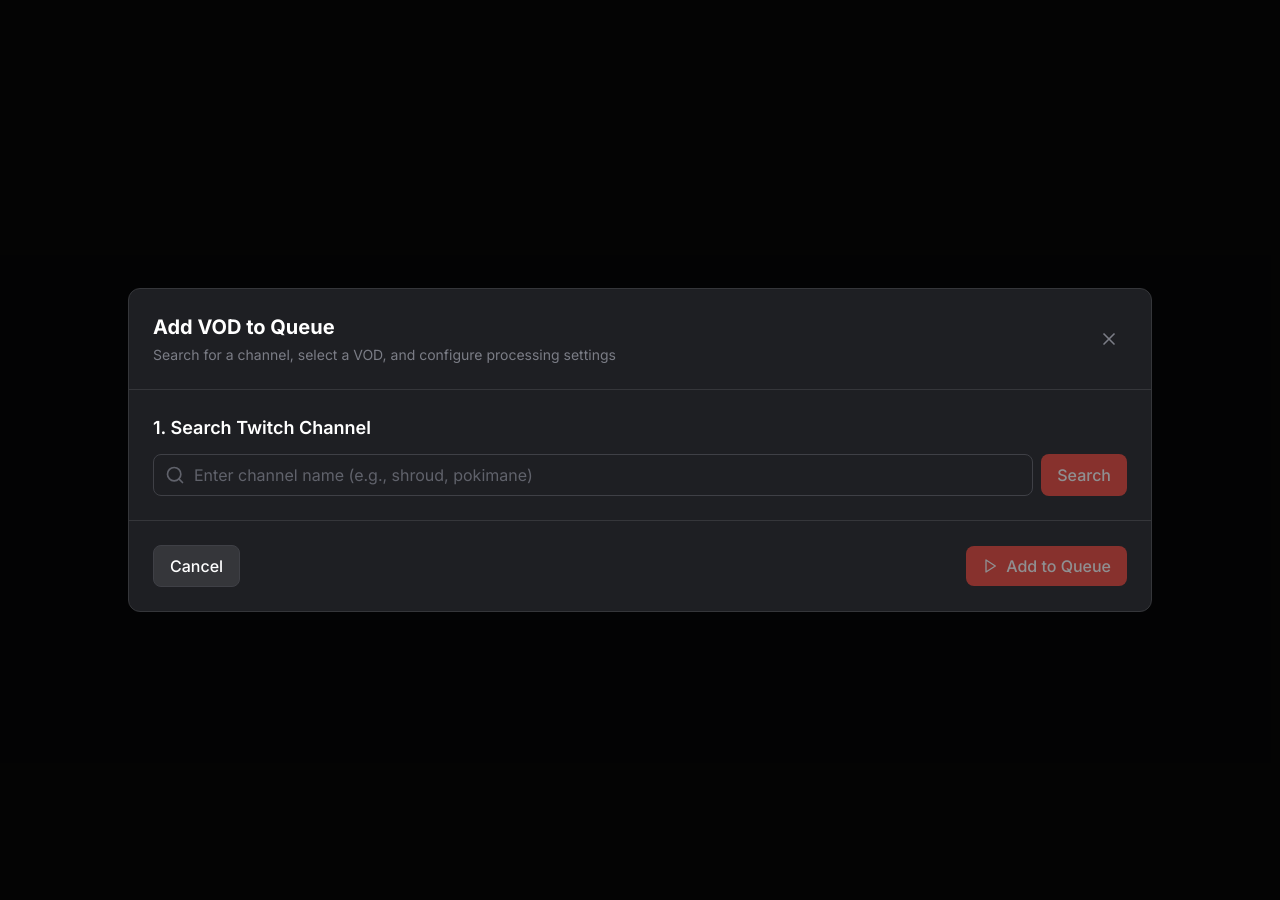
VodBrowserModal › VOD Selection › should display VODs after successful channel search
This screenshot has width=1280, height=900.
Type "shroud" into the field with placeholder "Enter channel name (e.g., shroud, pokimane)" at point(593, 475), box [153,454,1033,496]
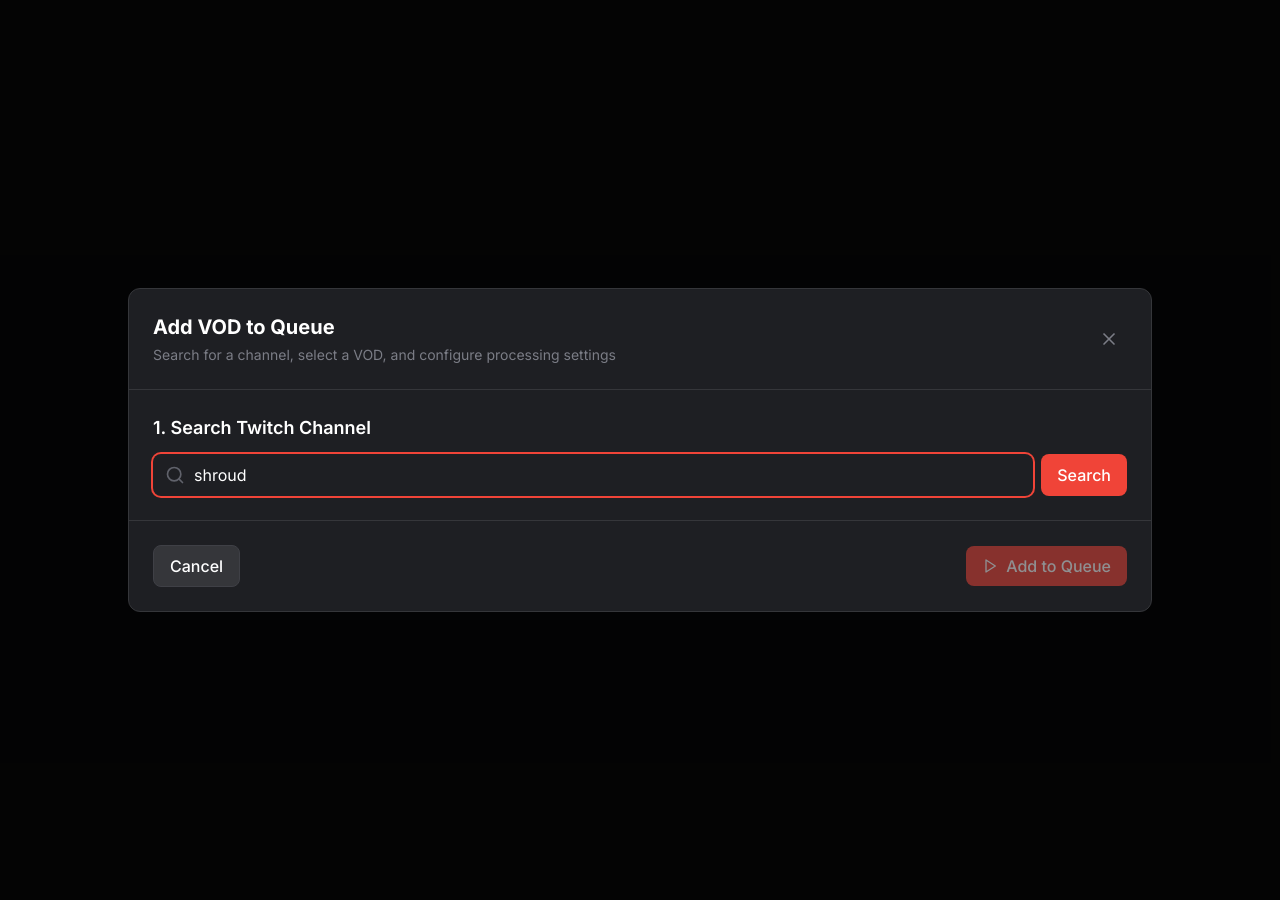
Click the button "Search" at point(1084, 475), box [1041,454,1127,496]
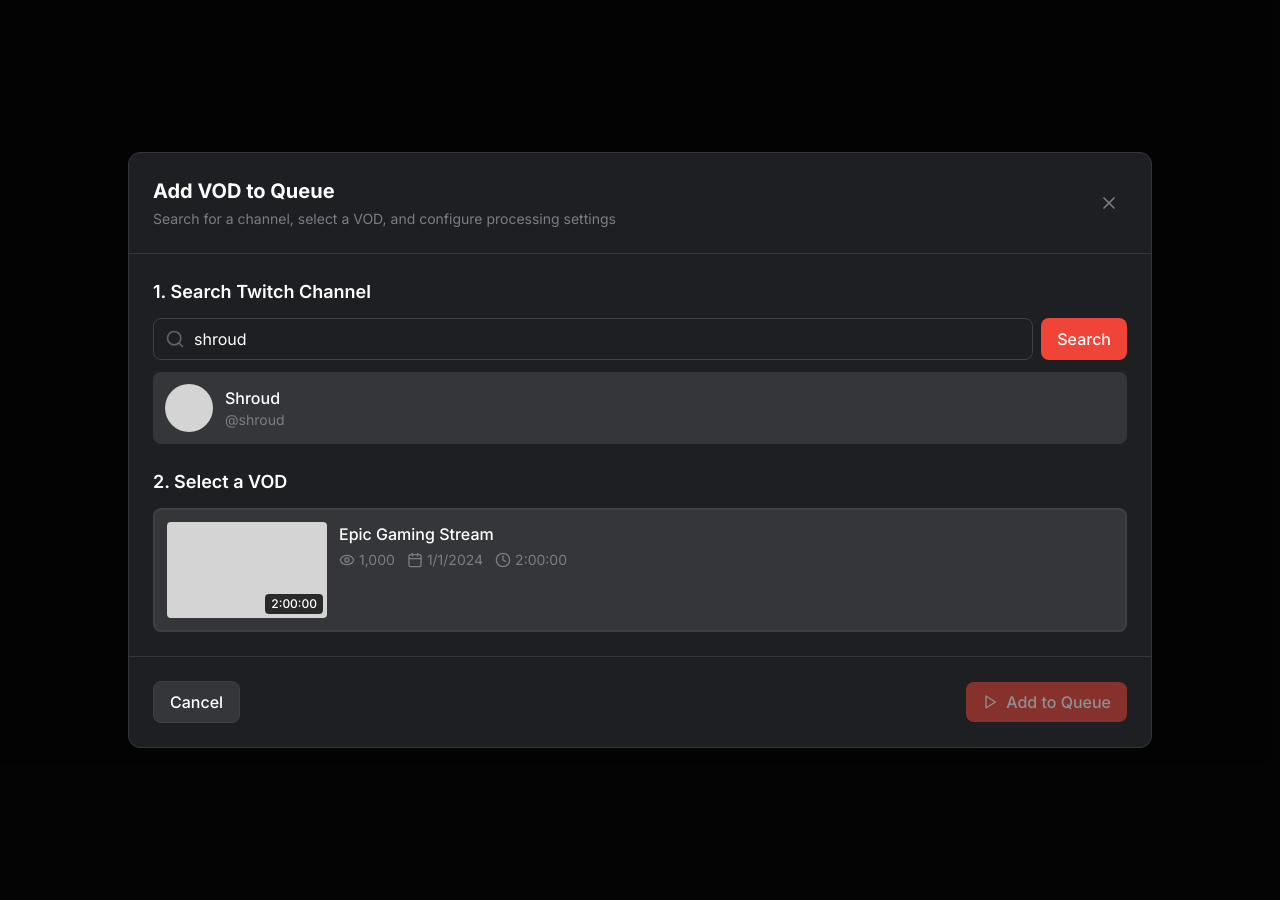
Now the heading "2. Select a VOD" is shown, box [153,471,287,492]
Now the heading "Epic Gaming Stream" is shown, box [339,524,494,544]
